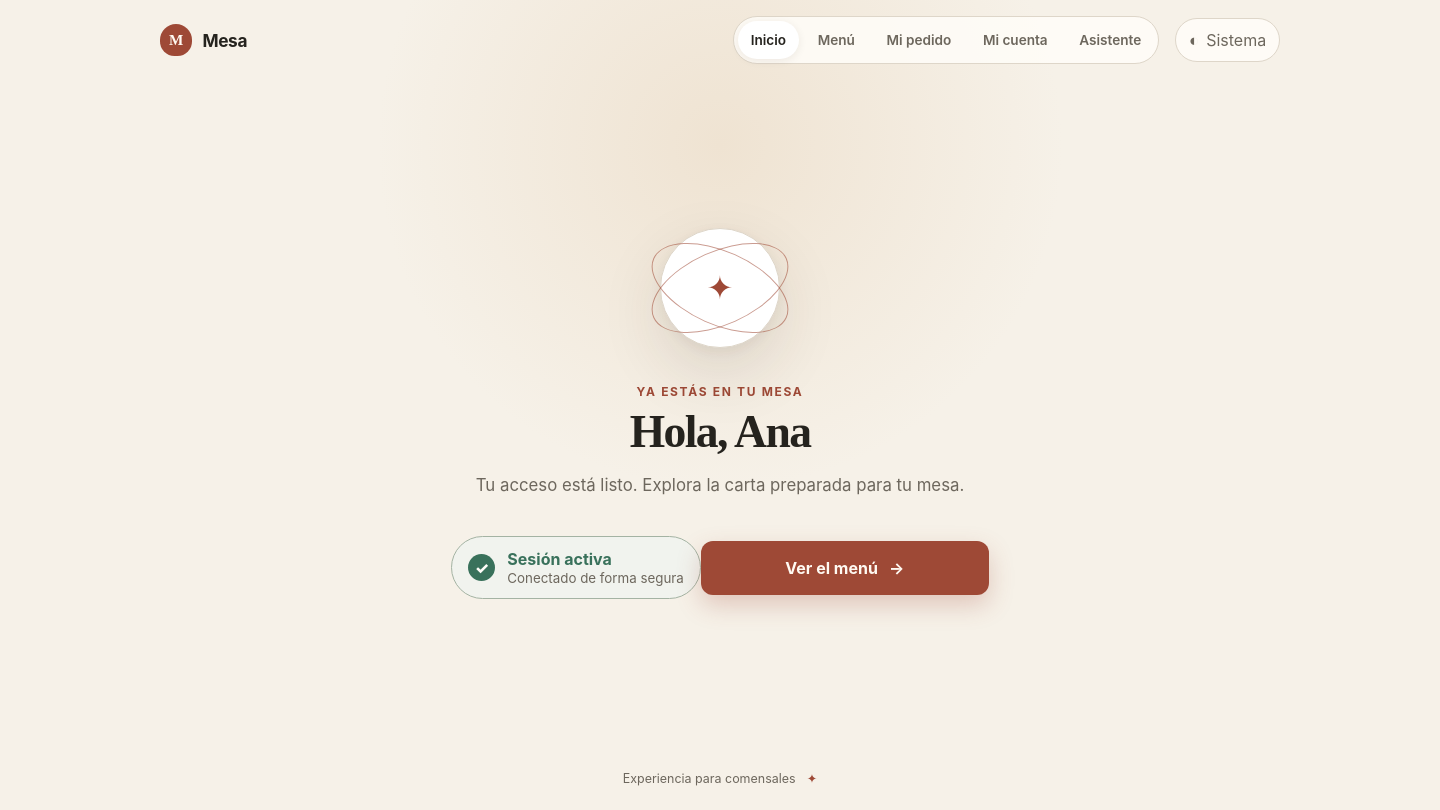
Test: menu browsing › navigates from the authenticated shell and renders the authoritative hierarchy
Click the link "Ver el menú →" at (845, 568), box top-left (701, 541), bottom-right (989, 595)
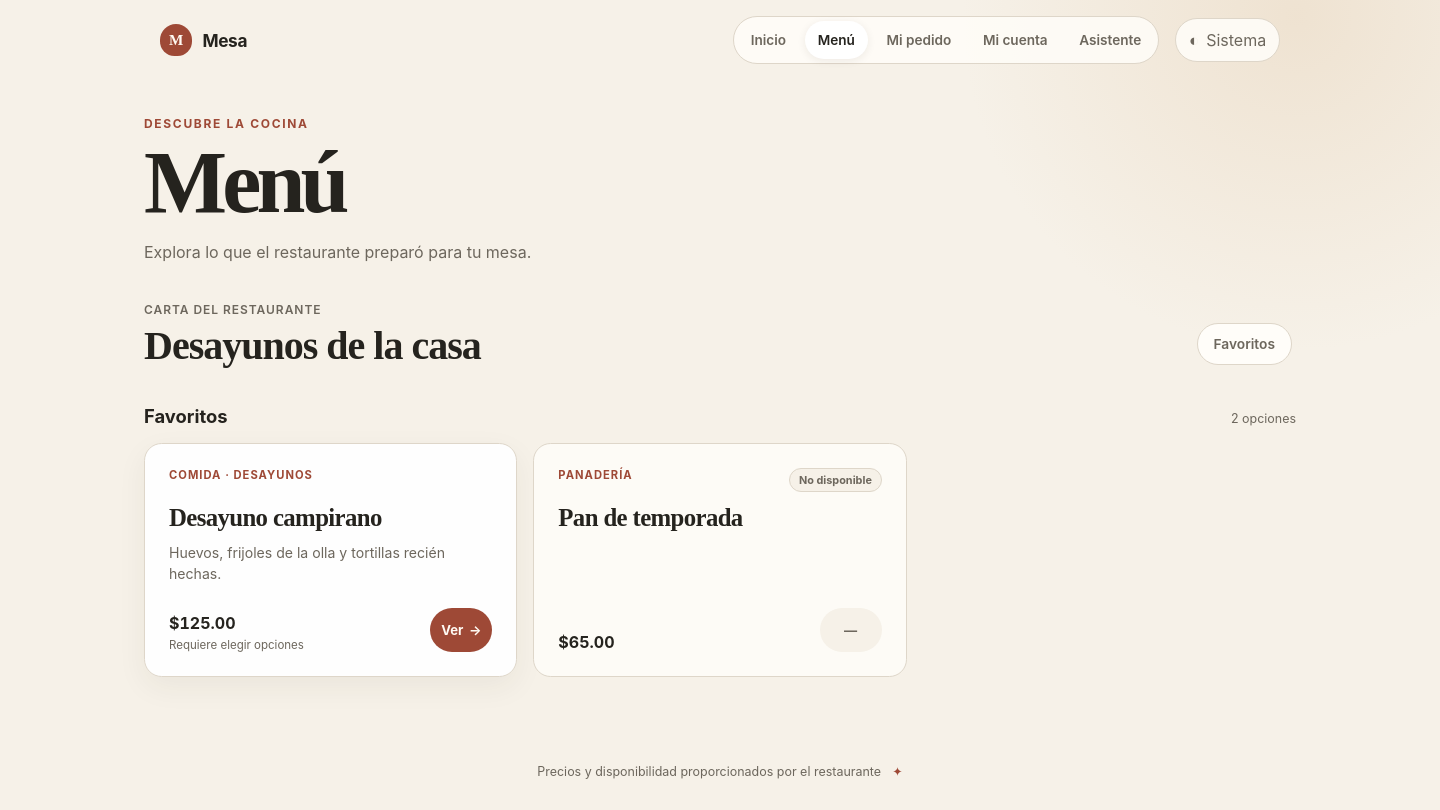
expect the heading "Menú" is shown: met, box top-left (144, 134), bottom-right (345, 231)
expect the heading "Desayunos de la casa" is shown: met, box top-left (144, 322), bottom-right (481, 369)
expect the heading "Favoritos" is shown: met, box top-left (144, 405), bottom-right (228, 427)
